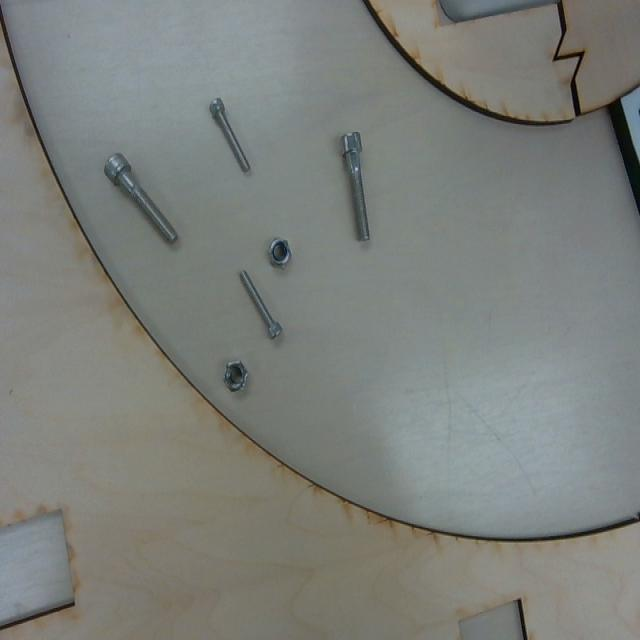Big Bolt: (104, 149, 182, 248), (336, 128, 373, 245)
Metal Nut: (223, 361, 252, 398), (268, 237, 294, 270)
Small Bolt: (236, 264, 287, 344), (207, 94, 254, 179)
